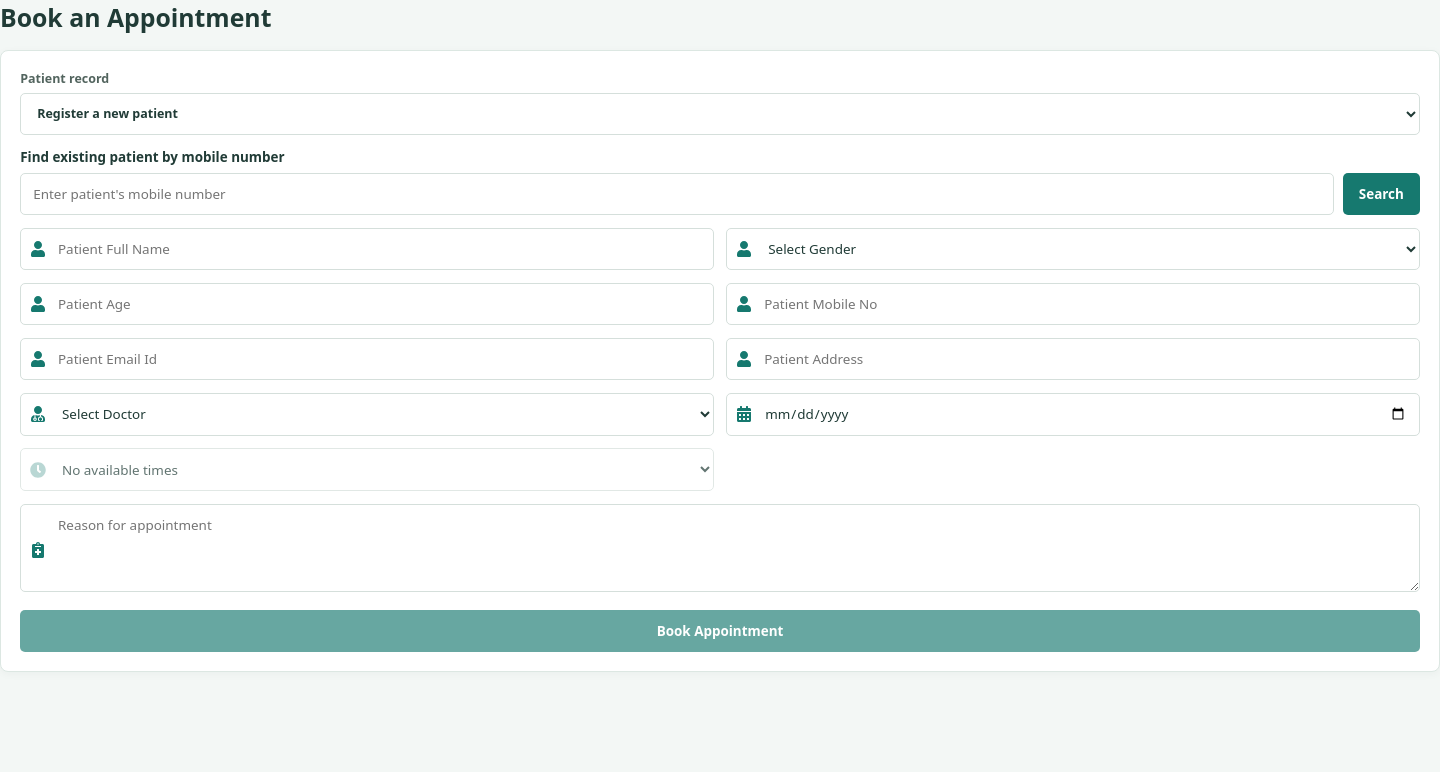
shows the selected doctor specialty and department
Select "Dr. Example · Cardiology · Cardiology Department" in the 2nd dropdown named "doctor" at (367, 414), box [20,393,714,436]
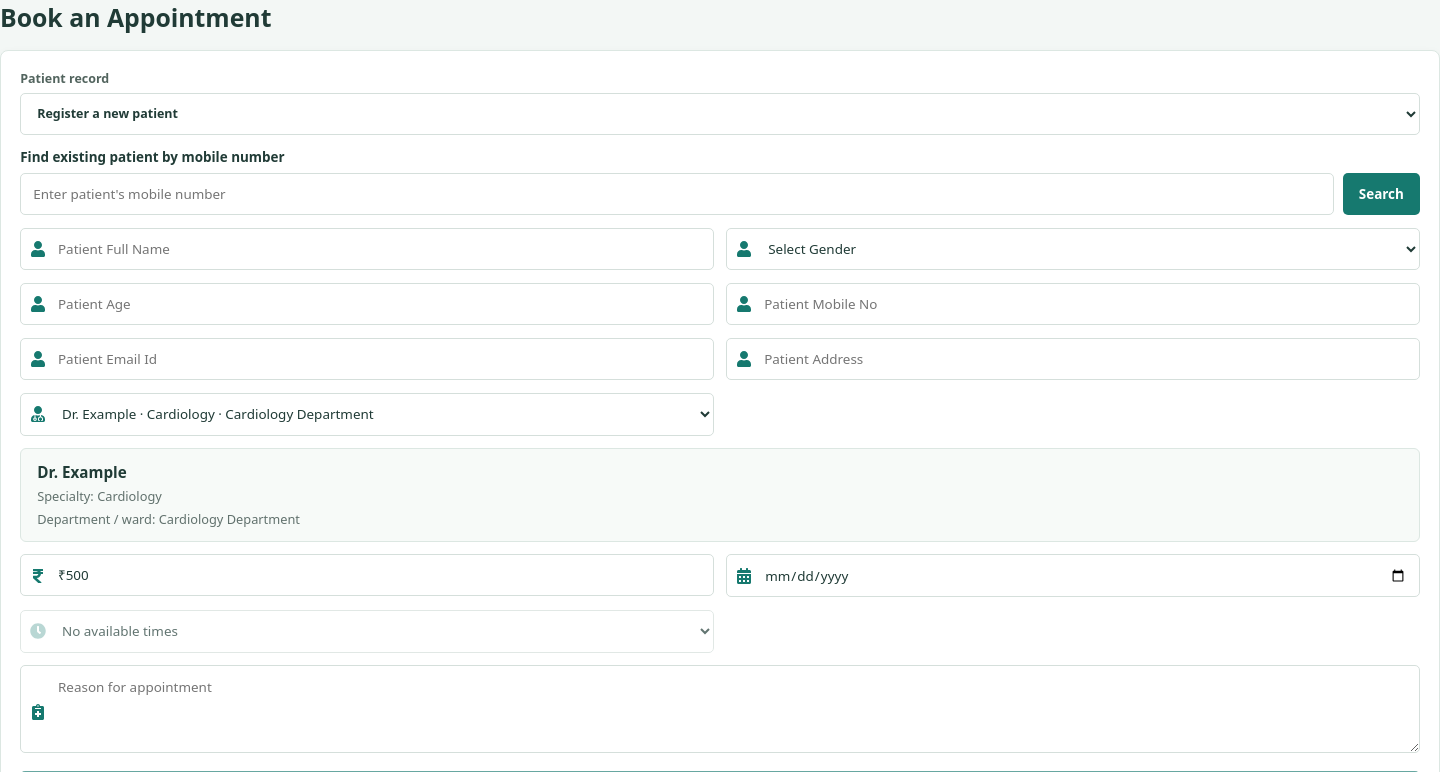
Expected: the text "Department / ward: Cardiology Department" is shown, [37,510,300,528]
Expected: the text "Specialty: Cardiology" is shown, [37,487,162,505]
